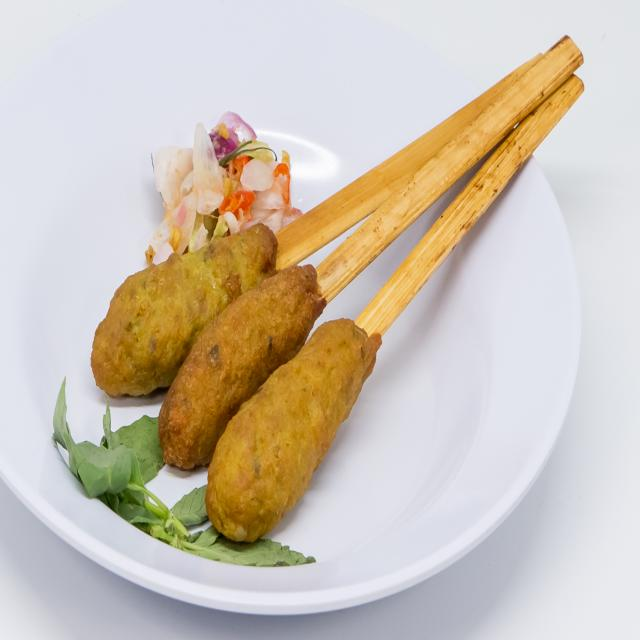Sate-Lilit: (52, 68, 437, 582)
